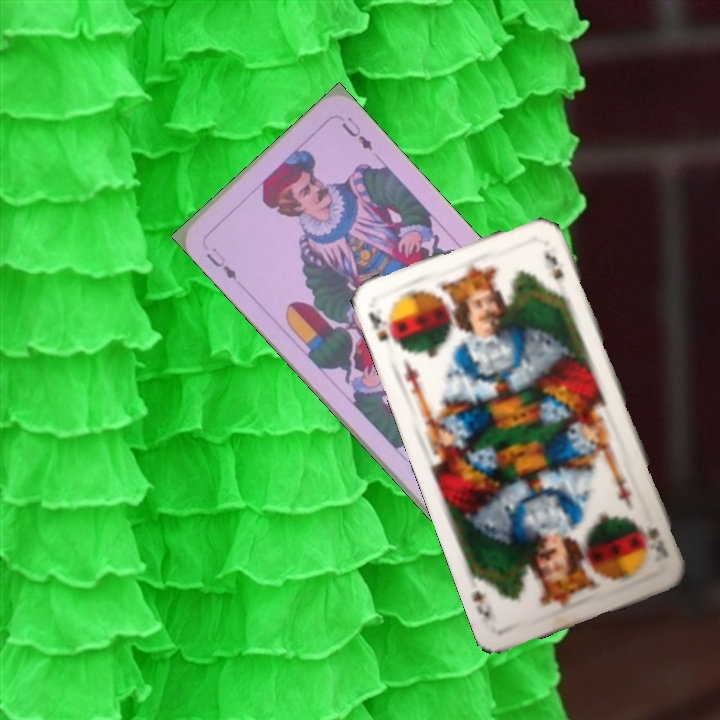EU: (201, 243, 240, 284)
SK: (364, 307, 405, 353), (642, 523, 666, 558)
